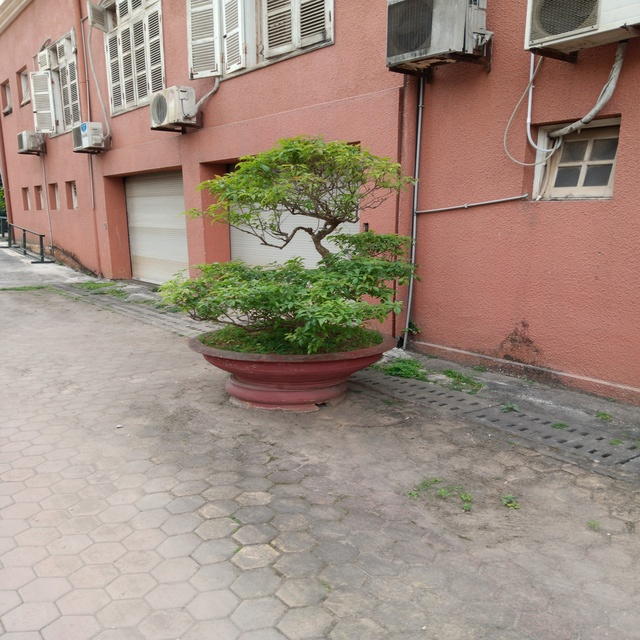caycanh: (150, 125, 428, 412)
